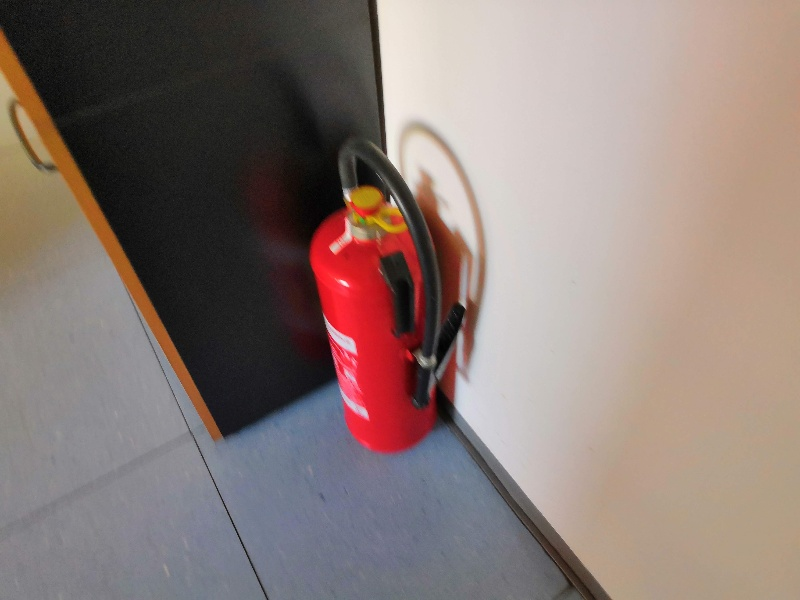vataparat: (314, 139, 465, 454)
